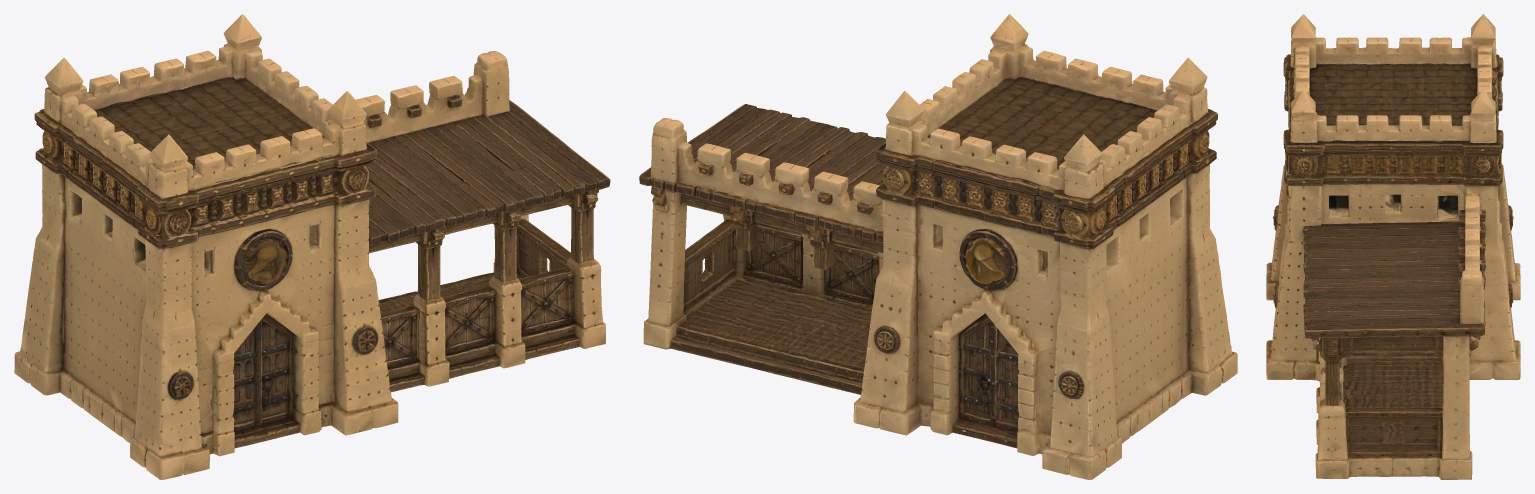
File: StableFort.glb
The picture shows the model from 3 angles, left to right: view 1: azimuth 30°, elevation 25°; view 2: azimuth 150°, elevation 25°; view 3: azimuth 270°, elevation 25°; orthographic projection. The views are drawn at different scales.
Size of the model in its own units: 1.9 by 1.23 by 1.02.
1 material, 1 textured.
